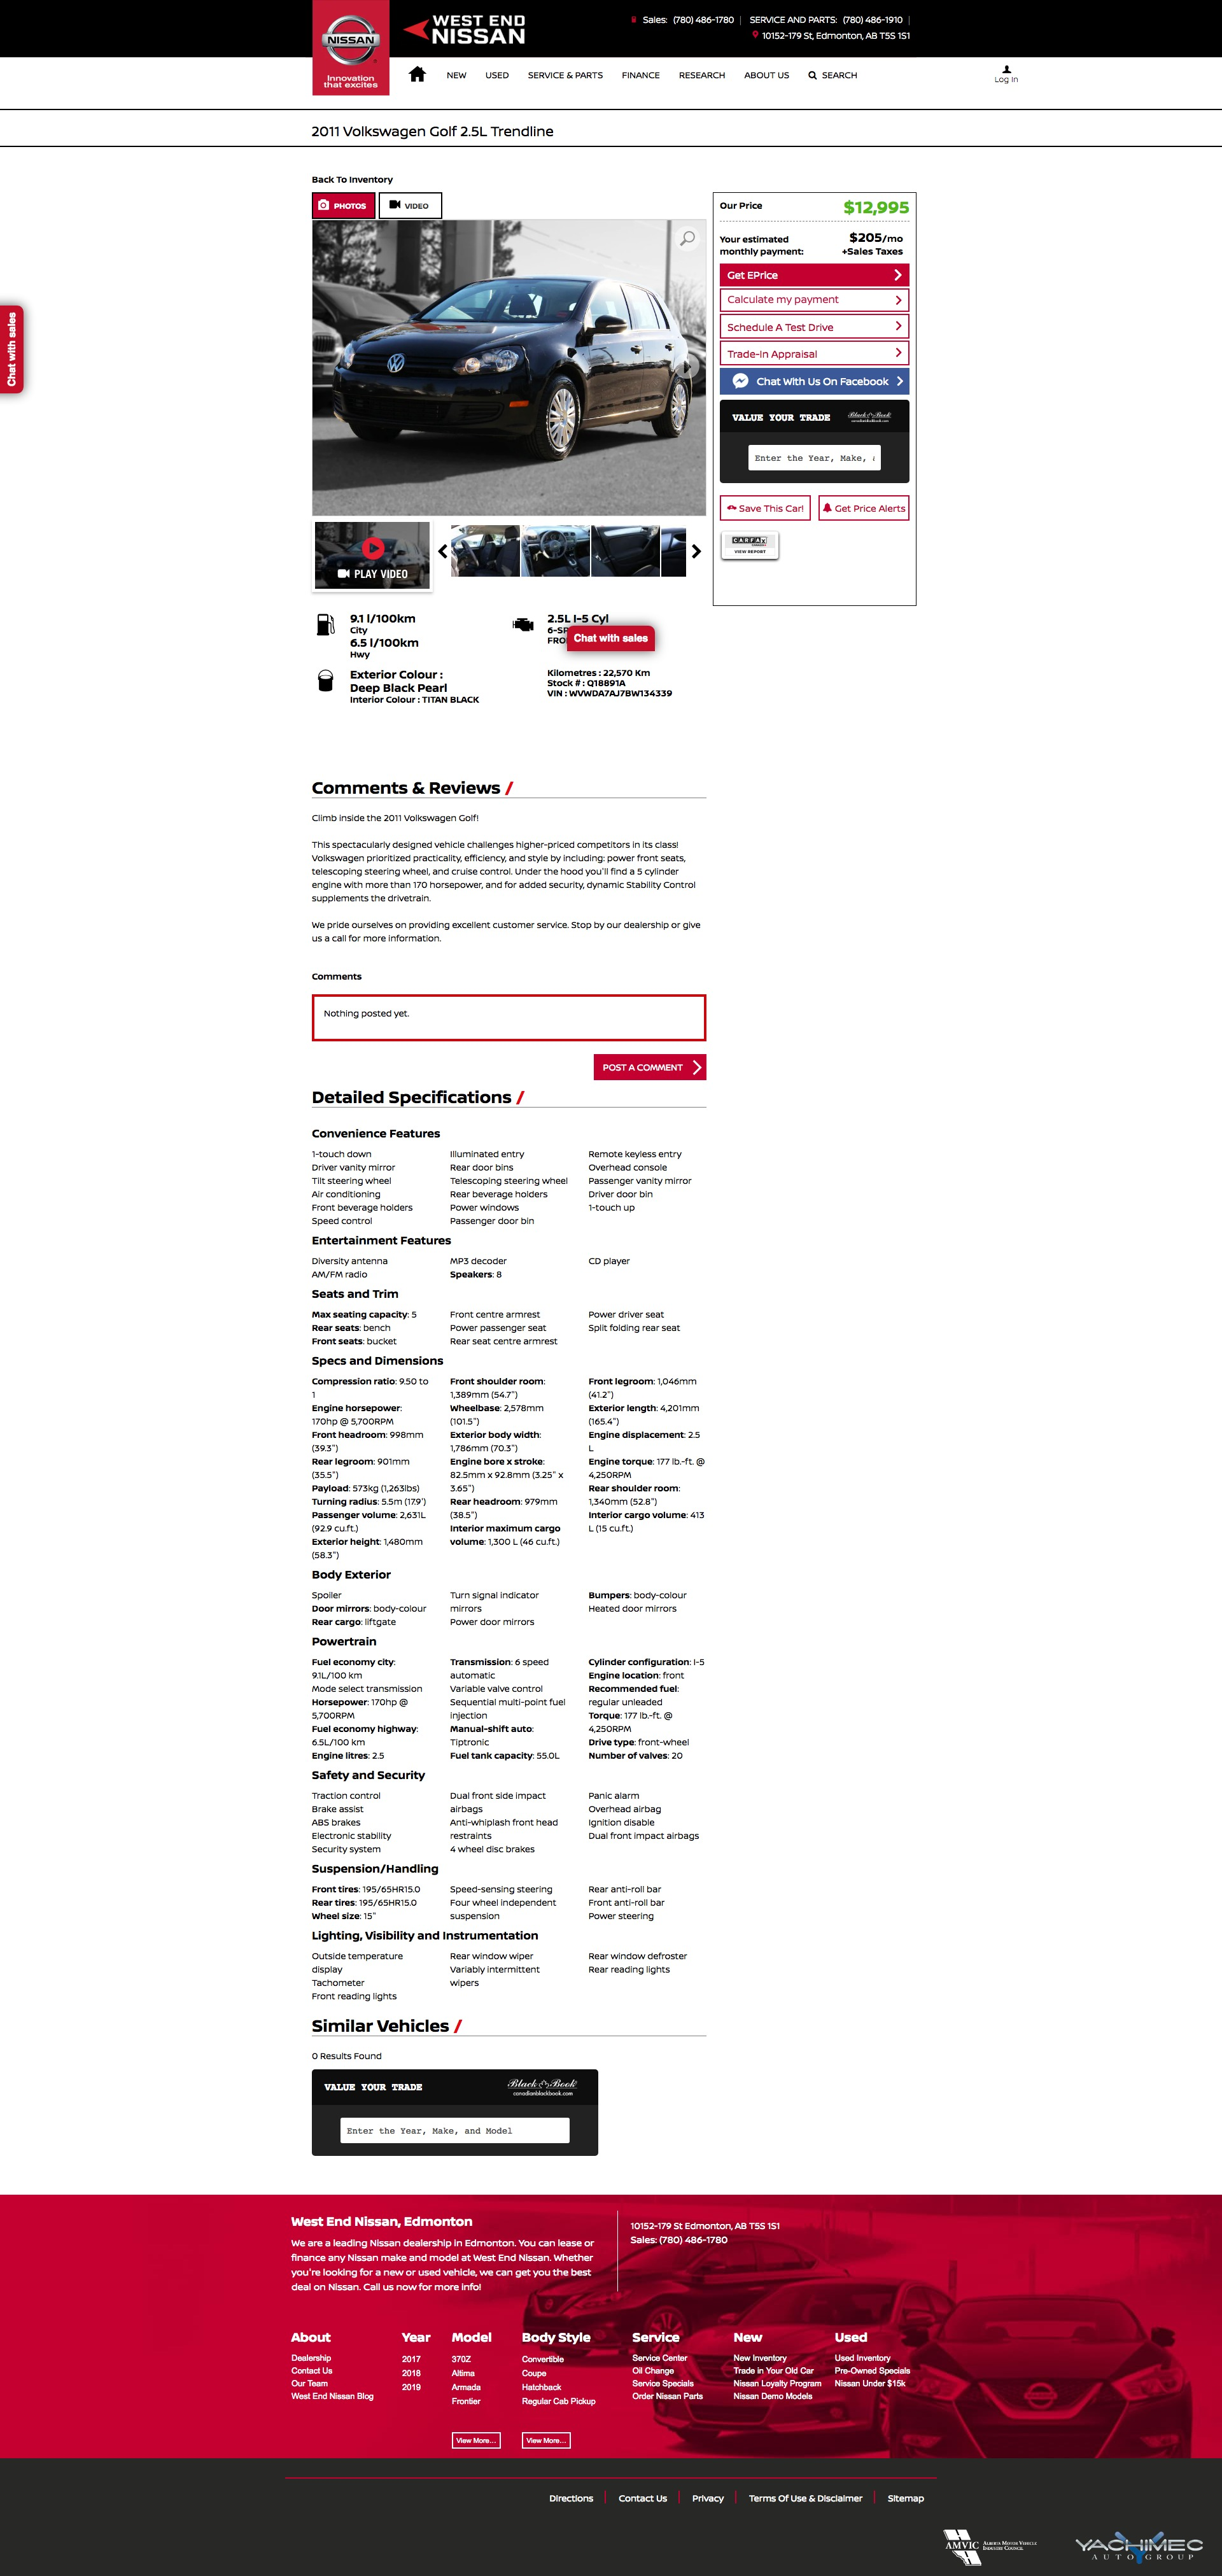car: (690, 542, 705, 560)
